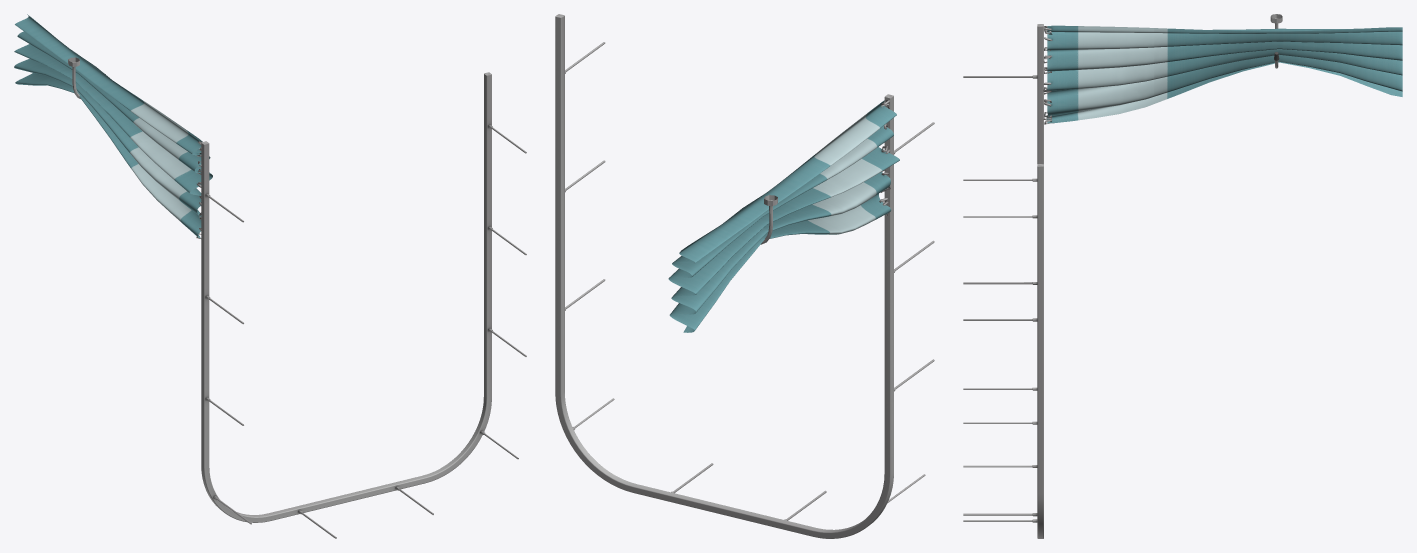
File: aws_robomaker_hospital_curtain_open_01_visual.dae
3 views of the same model, side by side, from view 1: azimuth 30°, elevation 25°; view 2: azimuth 150°, elevation 25°; view 3: azimuth 270°, elevation 25° (orthographic). The views are drawn at different scales.
Parts seen in each view (by area): view 1: aws_robomaker_hospital_curtain_open_01_visual, aws_robomaker_hospital_curtainrail_01_visual; view 2: aws_robomaker_hospital_curtain_open_01_visual, aws_robomaker_hospital_curtainrail_01_visual; view 3: aws_robomaker_hospital_curtain_open_01_visual, aws_robomaker_hospital_curtainrail_01_visual.
Part boxes in pixels (left/top/right/bottom): aws_robomaker_hospital_curtain_open_01_visual: left=14, top=14, right=212, bottom=238; aws_robomaker_hospital_curtainrail_01_visual: left=68, top=57, right=526, bottom=538; aws_robomaker_hospital_curtain_open_01_visual: left=668, top=100, right=899, bottom=332; aws_robomaker_hospital_curtainrail_01_visual: left=555, top=14, right=934, bottom=538; aws_robomaker_hospital_curtain_open_01_visual: left=1043, top=25, right=1402, bottom=124; aws_robomaker_hospital_curtainrail_01_visual: left=963, top=14, right=1282, bottom=538.
Bounding box in the file's own units: 238 × 293 × 292.
Materials: 2 (2 with a texture image).
